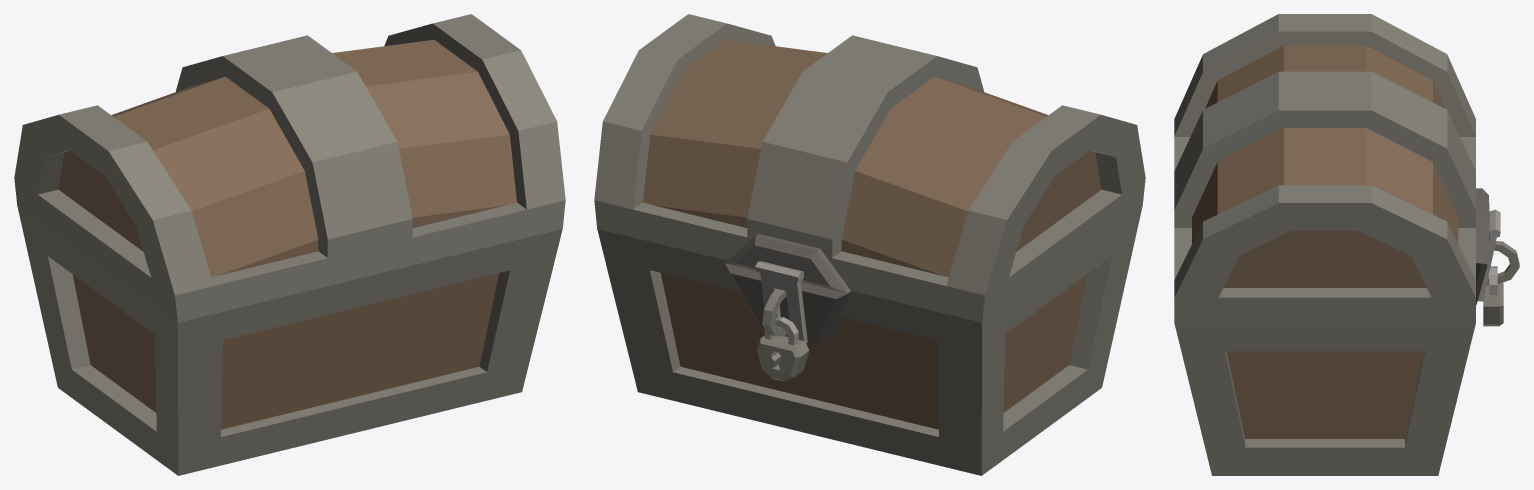
File: Beach_Prop_Treasure_Chest.glb
The picture shows the model from 3 angles, left to right: view 1: azimuth 30°, elevation 25°; view 2: azimuth 150°, elevation 25°; view 3: azimuth 270°, elevation 25°; orthographic projection. The views are drawn at different scales.
Parts seen in each view (by area): view 1: Beach_Prop_Treasure_Chest; view 2: Beach_Prop_Treasure_Chest; view 3: Beach_Prop_Treasure_Chest.
Part boxes in pixels (x1=…): Beach_Prop_Treasure_Chest: x1=14, y1=14, x2=565, y2=475; Beach_Prop_Treasure_Chest: x1=594, y1=14, x2=1145, y2=475; Beach_Prop_Treasure_Chest: x1=1174, y1=14, x2=1519, y2=475.
Size of the model in its own units: 0.9714 by 0.7334 by 0.7495.
